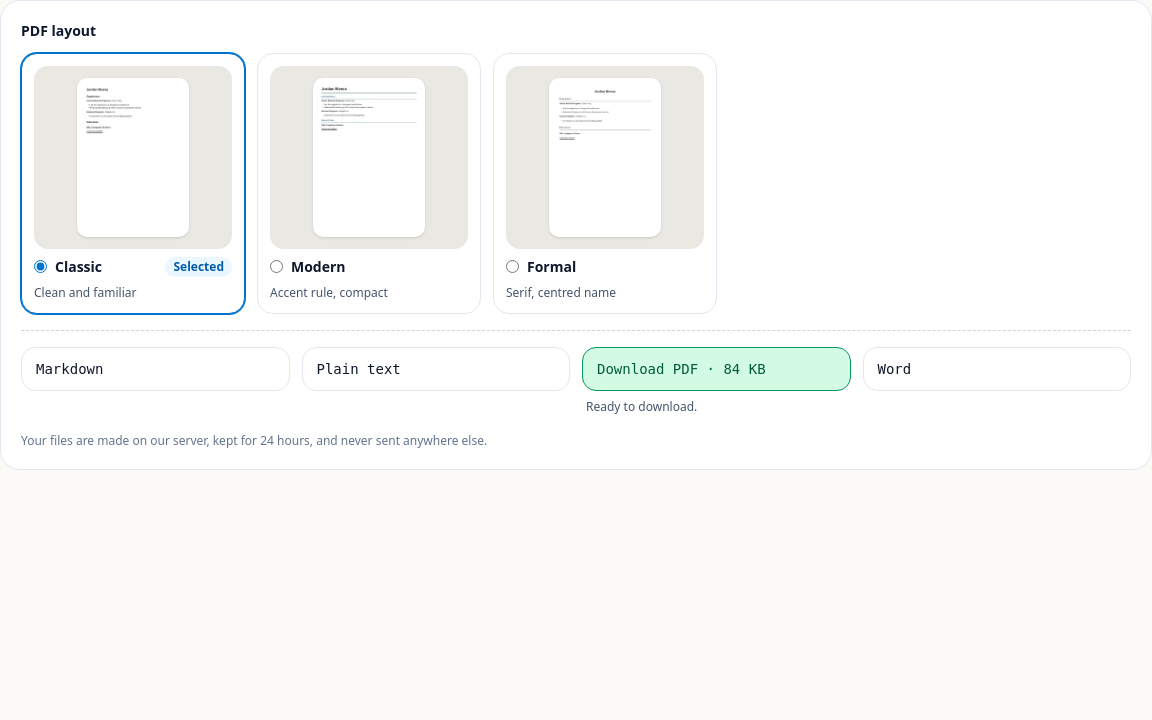
ExportBar › AC-42: 410 export_file_gone maps to "That file is no longer available — Export again", and the recovery the copy promises is reachable — MAJOR 2 (/verify slice
Click the button "Download PDF · 84 KB". click: (716, 369)
box: [582,347,850,391]
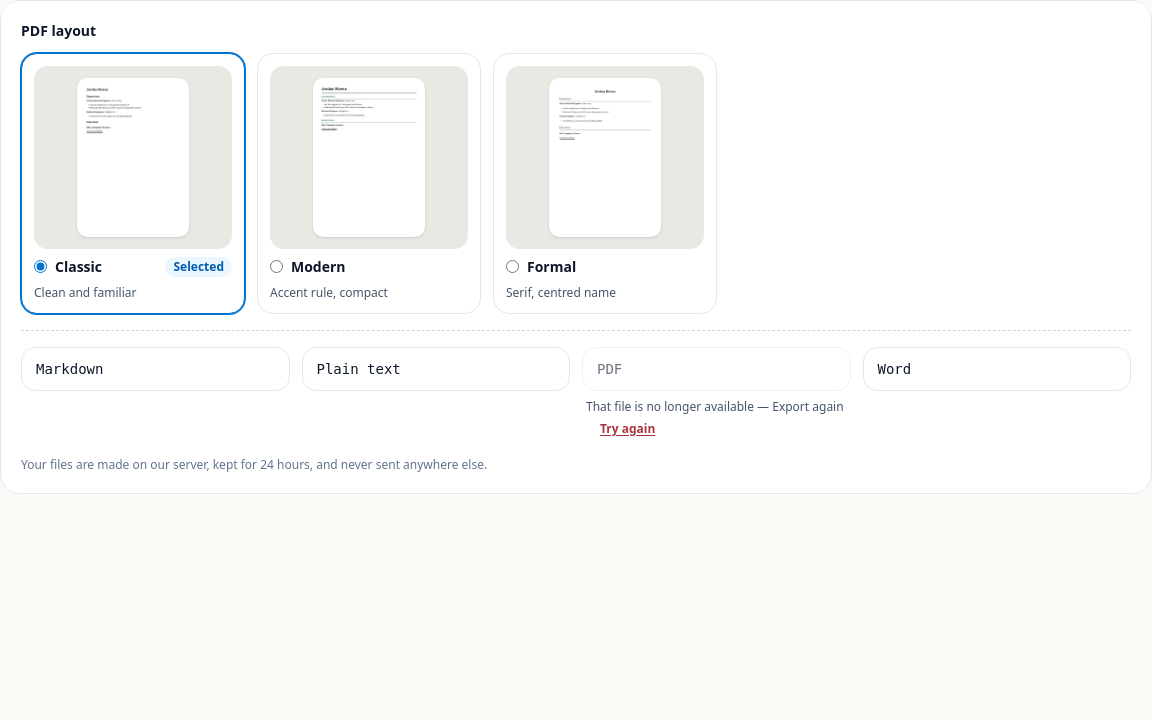
Check: the text "That file is no longer available — Export again" is shown, box [586,398,844,415]
Click the button "Try again". click: (628, 429)
box: [594,417,661,441]
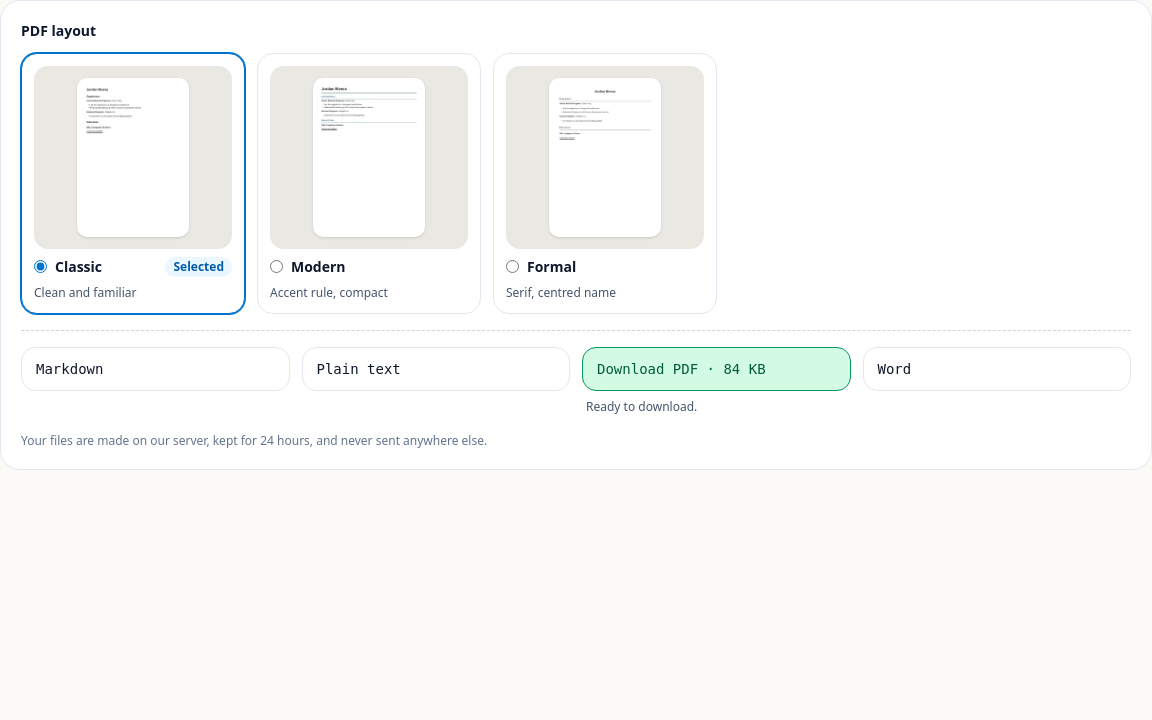
Check: the text "That file is no longer available — Export again" is gone
